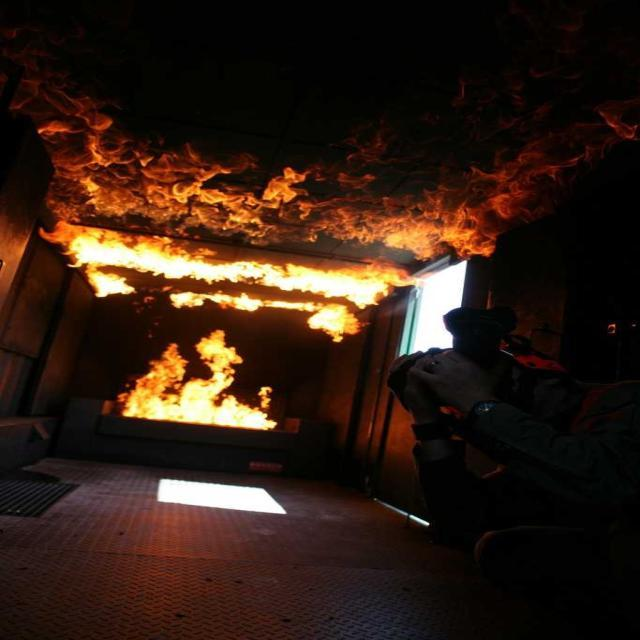Fire: (234, 148, 538, 256), (39, 108, 223, 270), (258, 262, 416, 337), (154, 352, 292, 437), (170, 289, 258, 322), (88, 268, 133, 299)
